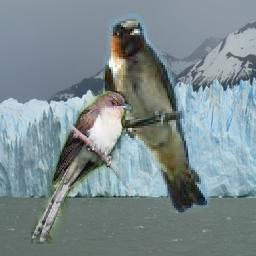Cuckoo: (31, 92, 133, 245)
Swallow: (103, 13, 211, 213)
